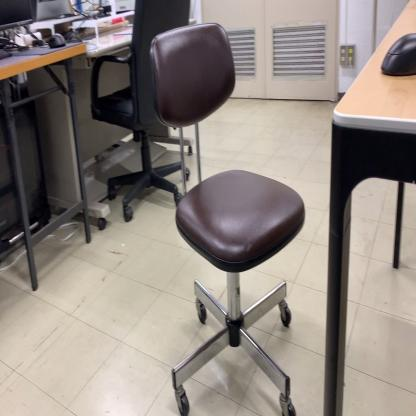chair: (147, 20, 307, 416), (88, 0, 190, 225)
